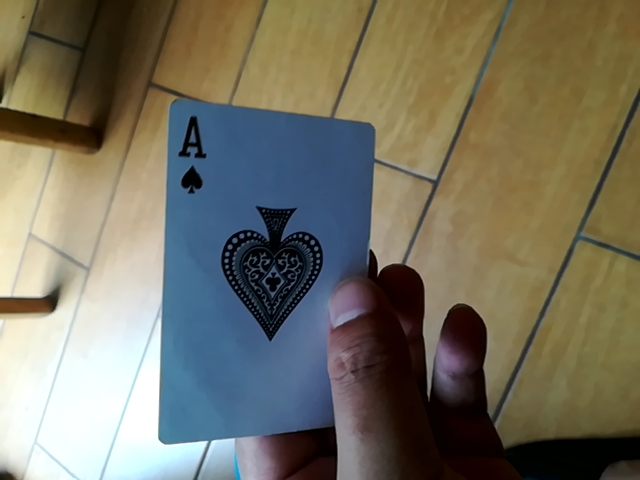ht a: (149, 89, 364, 455)
